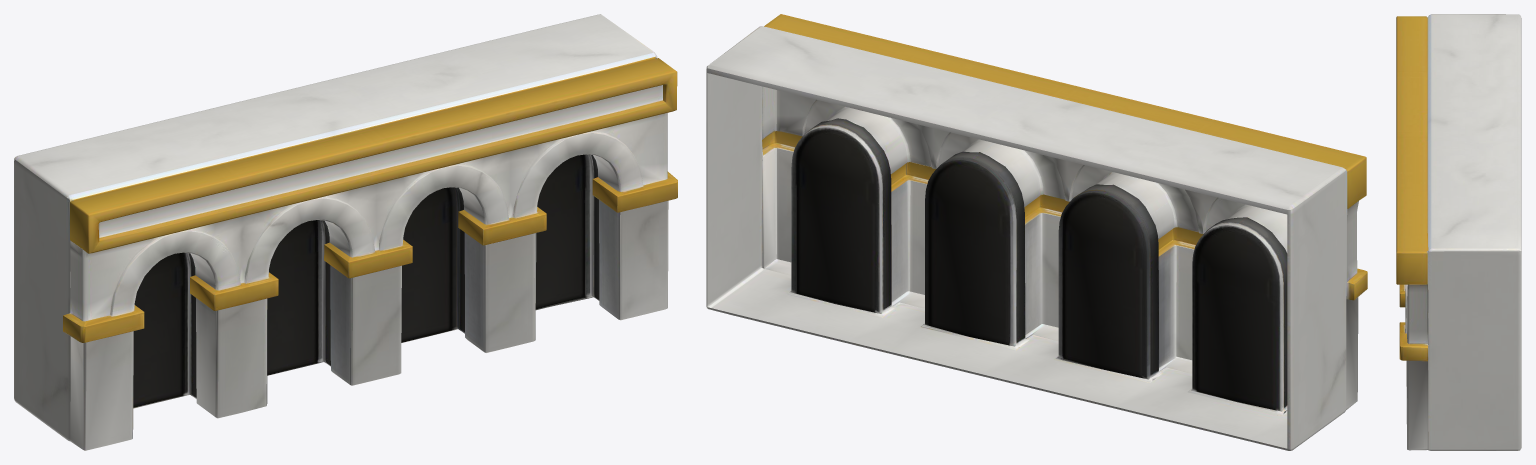
Rendered from leyendas_arcada.glb.
The picture shows the model from 3 angles, left to right: view 1: azimuth 30°, elevation 25°; view 2: azimuth 150°, elevation 25°; view 3: azimuth 270°, elevation 25°; orthographic projection. The views are drawn at different scales.
Parts seen in each view (by area): view 1: tripo_node_1264f2de-a305-4696-940b-2e04d69cbef5; view 2: tripo_node_1264f2de-a305-4696-940b-2e04d69cbef5; view 3: tripo_node_1264f2de-a305-4696-940b-2e04d69cbef5.
Boxes of the visible parts, x1=… form: tripo_node_1264f2de-a305-4696-940b-2e04d69cbef5: x1=14, y1=14, x2=677, y2=450; tripo_node_1264f2de-a305-4696-940b-2e04d69cbef5: x1=706, y1=14, x2=1367, y2=450; tripo_node_1264f2de-a305-4696-940b-2e04d69cbef5: x1=1396, y1=14, x2=1521, y2=450.
Size of the model in its own units: 0.9985 by 0.3911 by 0.2192.
1 material, 1 textured.
